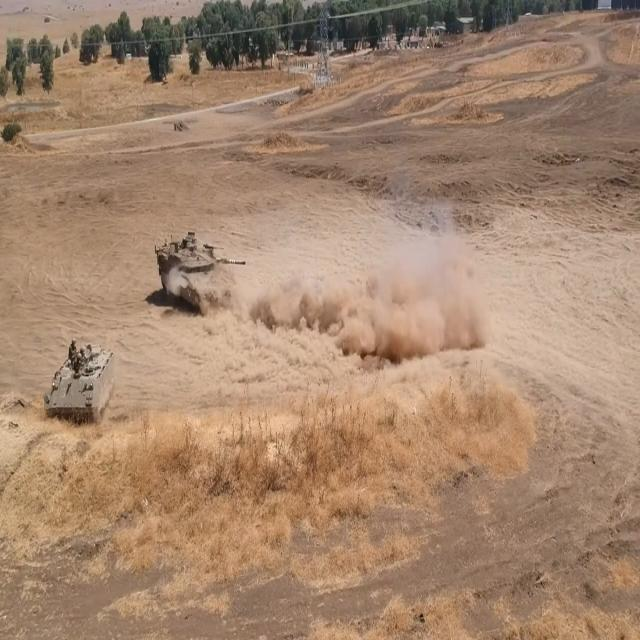tank: (150, 221, 244, 313)
